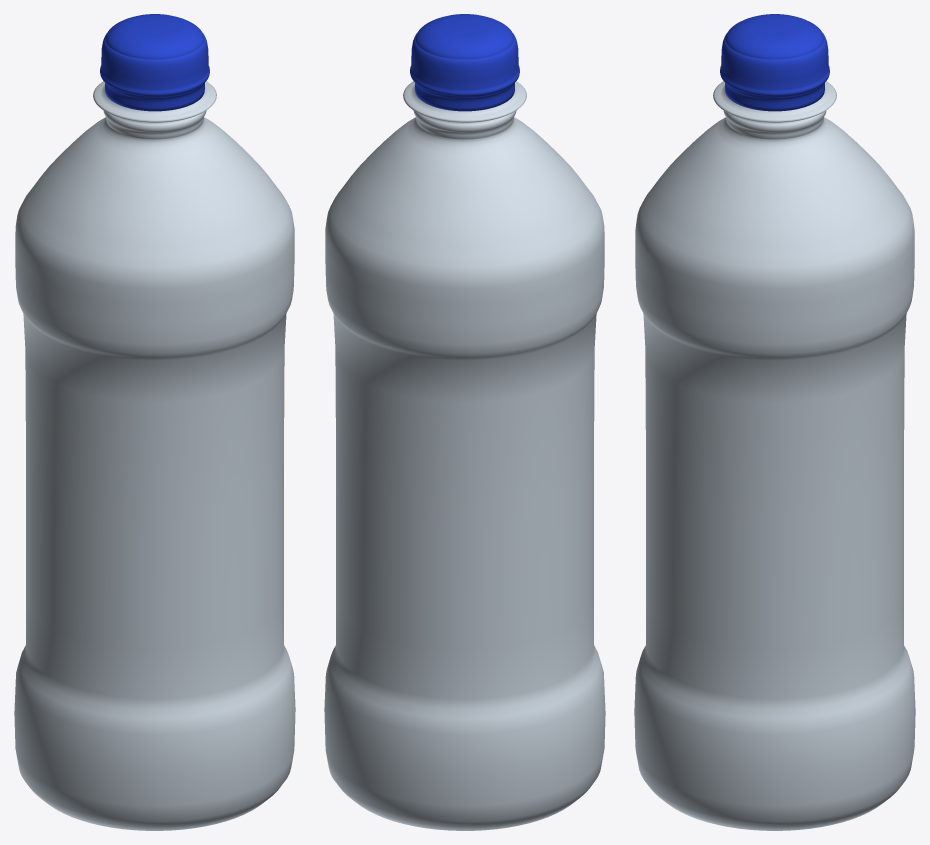
The model's file is bottle.dae.
3 views of the same model, side by side, from view 1: azimuth 30°, elevation 25°; view 2: azimuth 150°, elevation 25°; view 3: azimuth 270°, elevation 25° (orthographic).
Visible parts, largest first — view 1: Cylinder_003, Cylinder_002; view 2: Cylinder_003, Cylinder_002; view 3: Cylinder_003, Cylinder_002.
Boxes of the visible parts, x1,y1,x2,y2 form: Cylinder_003: (14, 81, 295, 830); Cylinder_002: (100, 14, 209, 111); Cylinder_003: (324, 81, 605, 830); Cylinder_002: (410, 14, 519, 111); Cylinder_003: (634, 81, 915, 830); Cylinder_002: (720, 14, 829, 111).
Bounding box in the file's own units: 2.14 × 2.14 × 6.35.
